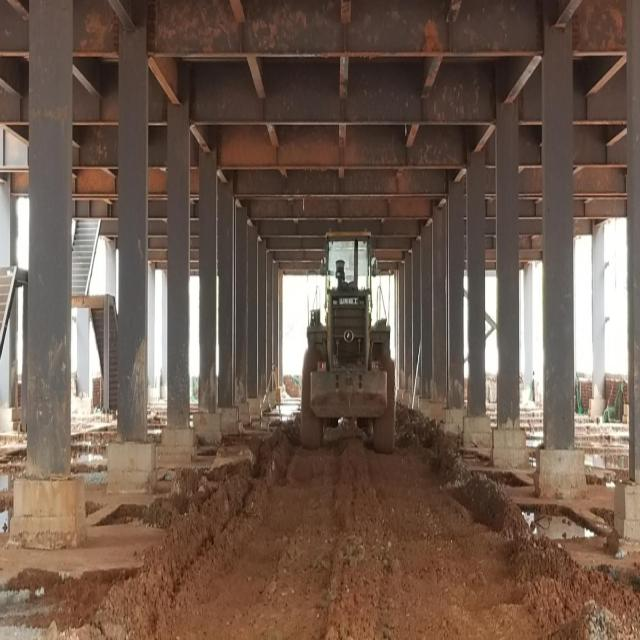machinery: (300, 230, 394, 454)
